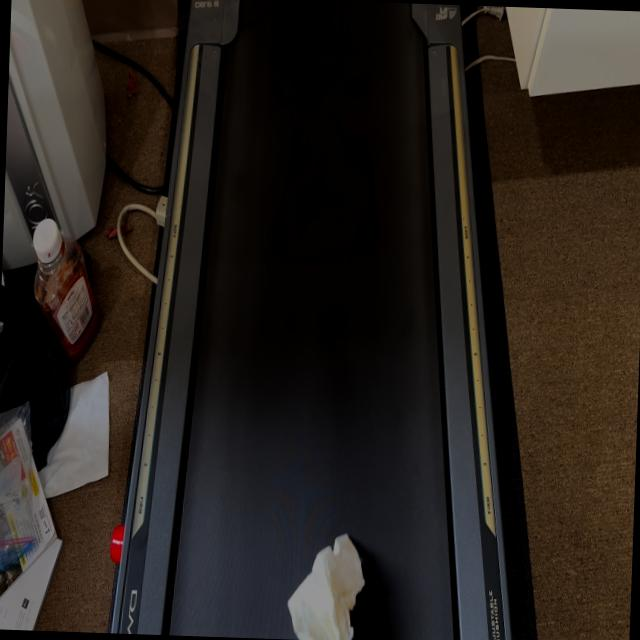Recycle: (285, 530, 366, 640)
